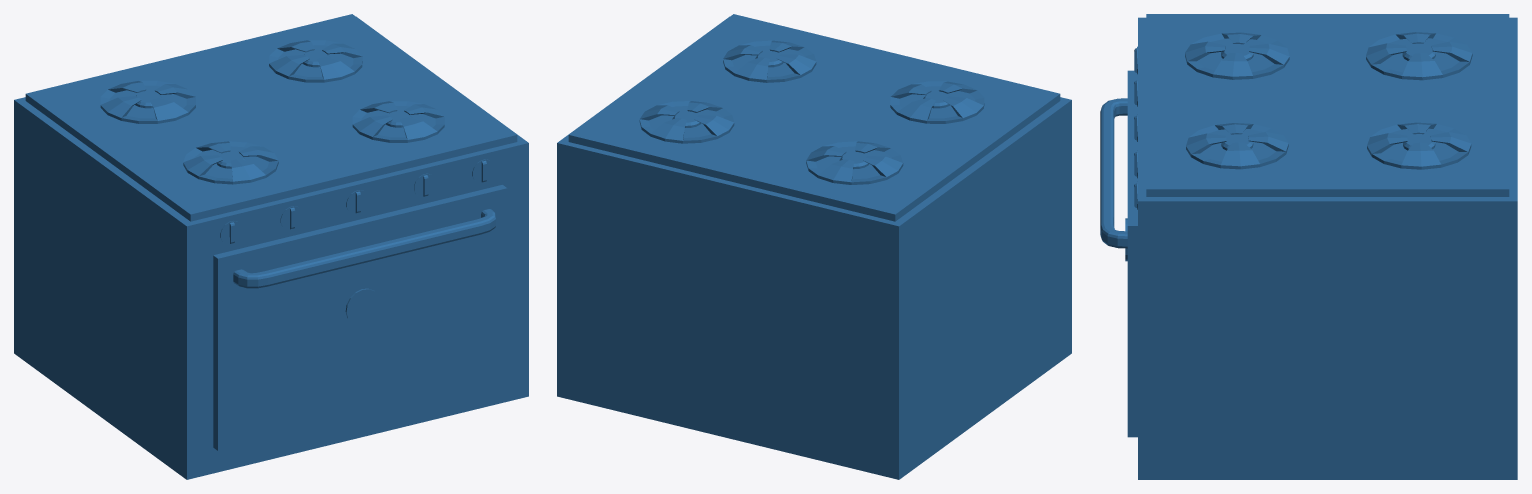
Rendered from Horno.fbx.
3 views of the same model, side by side, from view 1: azimuth 30°, elevation 25°; view 2: azimuth 150°, elevation 25°; view 3: azimuth 270°, elevation 25° (orthographic). The views are drawn at different scales.
Parts seen in each view (by area): view 1: pCube265; view 2: pCube265; view 3: pCube265.
Boxes of the visible parts, x1,y1,x2,y2 form: pCube265: (14,14,528,479); pCube265: (557,14,1071,479); pCube265: (1100,14,1517,479).
Bounding box in the file's own units: 1.2 × 0.9054 × 1.15.
